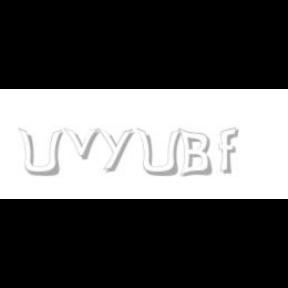B: (178, 128, 212, 178)
U: (18, 128, 62, 178), (136, 128, 180, 178)
f: (218, 128, 242, 174)
v: (63, 128, 103, 160)
y: (97, 128, 137, 172)
